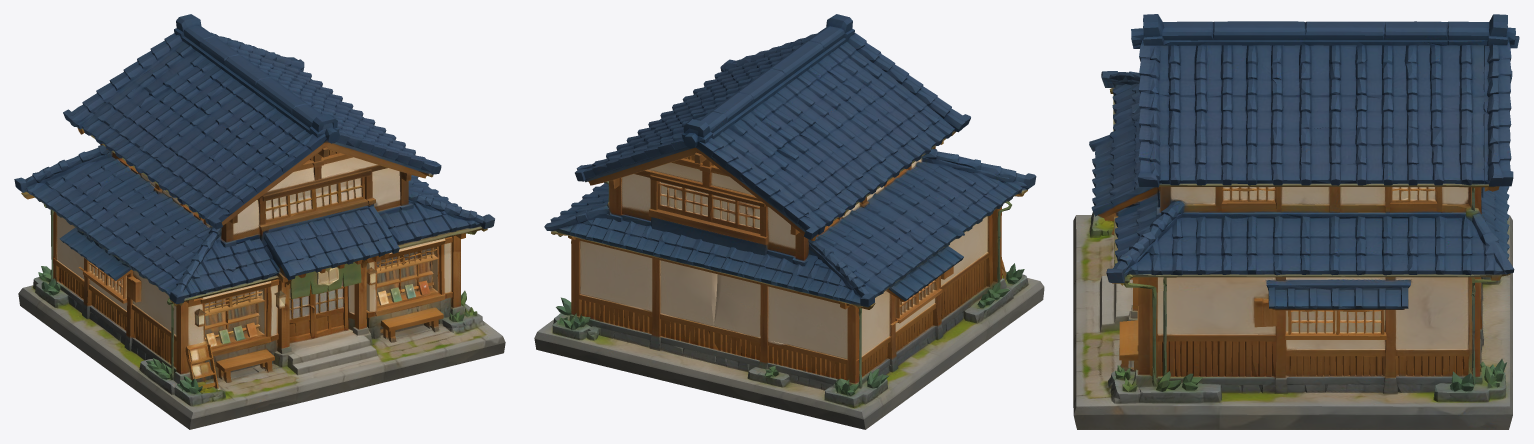
3 renders of one model, left to right at view 1: azimuth 30°, elevation 25°; view 2: azimuth 150°, elevation 25°; view 3: azimuth 270°, elevation 25°, orthographic. The views are drawn at different scales.
Parts seen in each view (by area): view 1: model; view 2: model; view 3: model.
Part boxes in pixels (x1,y1,x2,y2): model: (14, 14, 505, 429); model: (534, 14, 1044, 429); model: (1073, 14, 1519, 429).
Bounding box in the file's own units: 1.88 × 1.4 × 1.78.
Materials: 1 (1 with a texture image).
